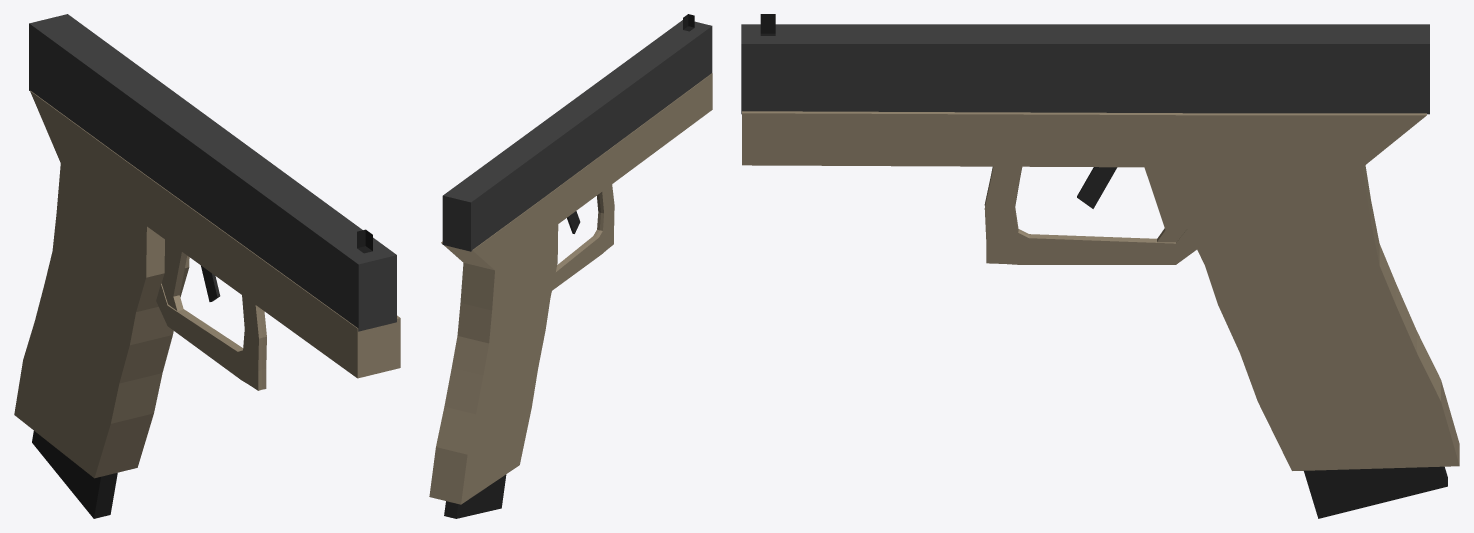
The model's file is Glock_19.fbx.
The picture shows the model from 3 angles, left to right: view 1: azimuth 30°, elevation 25°; view 2: azimuth 150°, elevation 25°; view 3: azimuth 270°, elevation 25°; orthographic projection. The views are drawn at different scales.
Visible parts, largest first — view 1: Plane, Cube.001, Plane.001, Cube, Plane.002; view 2: Plane, Cube.001, Plane.001, Cube; view 3: Plane, Cube.001, Plane.001, Cube, Plane.002, Plane.003.
Part boxes in pixels (x1,y1,x2,y2): Plane: (14,90,400,478); Cube.001: (29,14,396,331); Plane.001: (156,283,266,390); Cube: (32,431,117,518); Plane.002: (162,239,187,310); Plane: (429,73,712,504); Cube.001: (442,20,712,251); Plane.001: (552,184,614,290); Cube: (444,474,506,518); Plane: (742,111,1459,470); Cube.001: (741,24,1429,114); Plane.001: (984,166,1196,264); Cube: (1304,466,1447,518); Plane.002: (1144,167,1186,242); Plane.003: (1077,167,1117,208).
Size of the model in its own units: 67.53 by 712 by 930.
